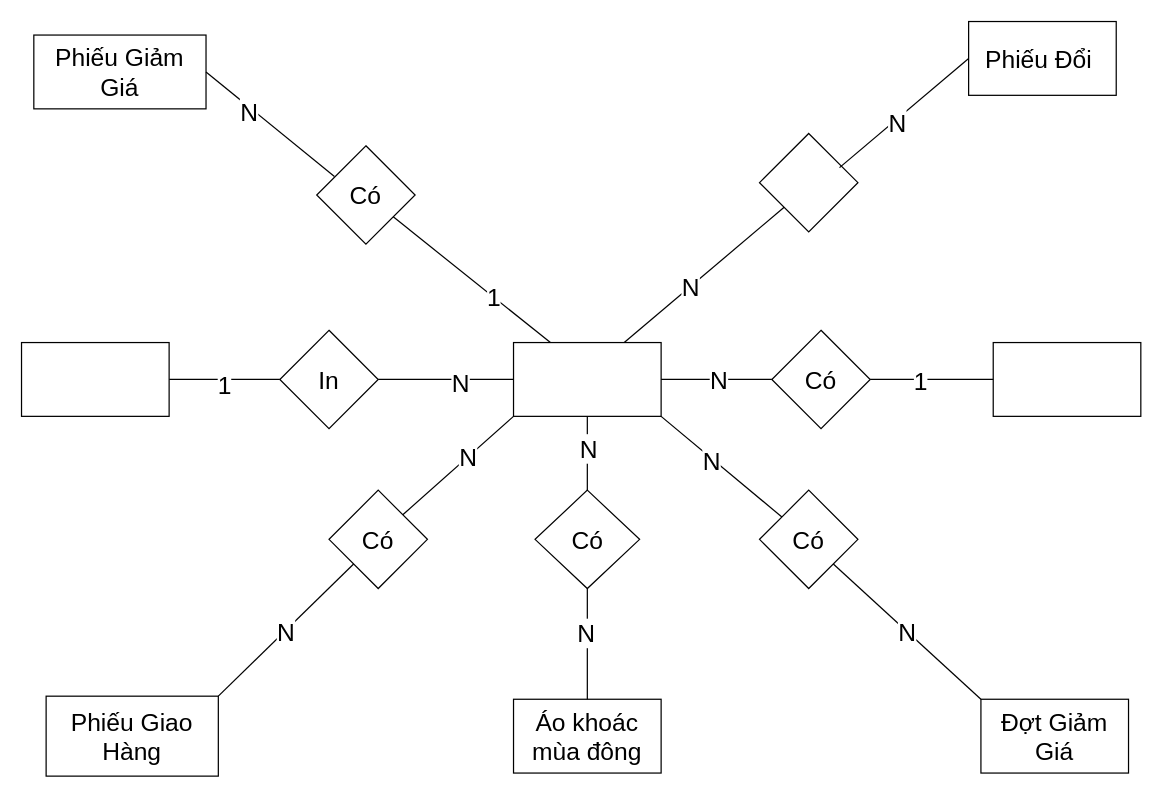
The diagram is 1162 pixels wide and 798 high, and some of its shapes have lost their labels. The shapes that lost their labels are listed below. From the top down, each one's centre as x and y in pixels, then its label:
the point at 808,182: Thuộc
the point at 94,378: Nhân Viên
the point at 586,378: Hóa Đơn
the point at 1066,378: Khách Hàng
